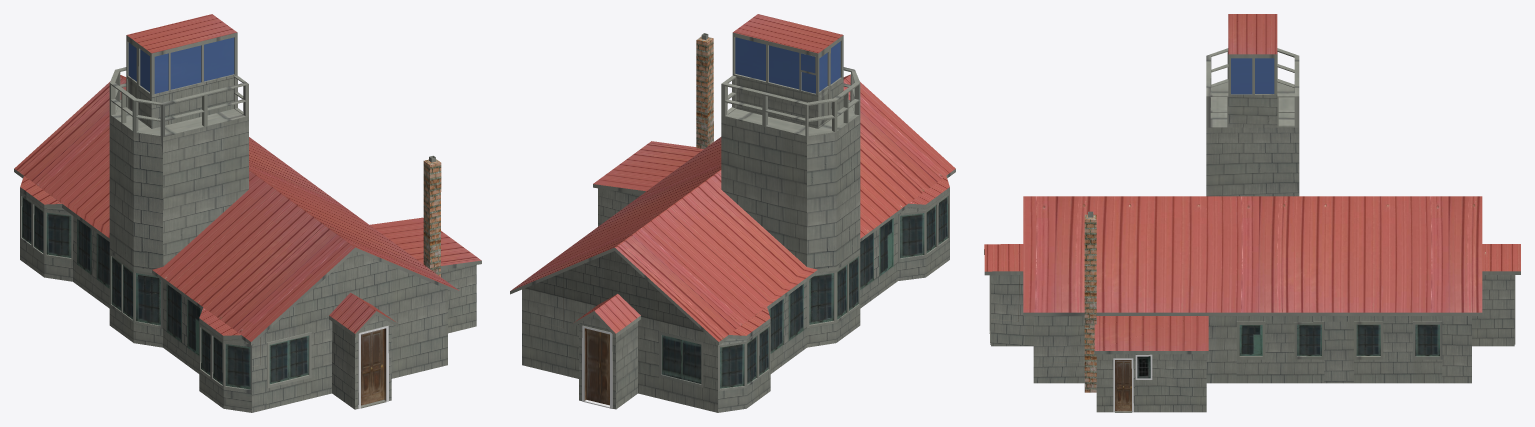
The model's file is Standard_BCATP_tower.glb.
3 renders of one model, left to right at view 1: azimuth 30°, elevation 25°; view 2: azimuth 150°, elevation 25°; view 3: azimuth 270°, elevation 25°, orthographic. The views are drawn at different scales.
Visible parts, largest first — view 1: BCATP_tower; view 2: BCATP_tower; view 3: BCATP_tower.
Part boxes in pixels (x1,y1,x2,y2): BCATP_tower: [14, 14, 481, 412]; BCATP_tower: [510, 14, 955, 412]; BCATP_tower: [984, 14, 1520, 412].
Bounding box in the file's own units: 13 × 12.8 × 22.41.
Materials: 1 (1 with a texture image).
